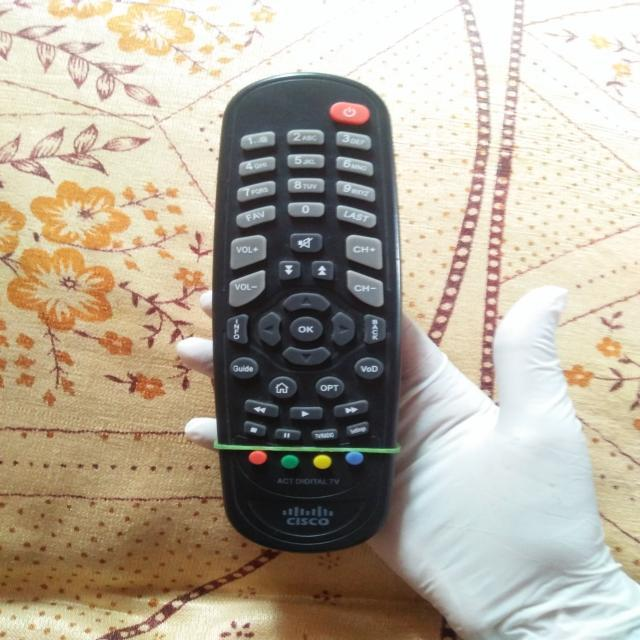glove_hand: (170, 232, 634, 639)
